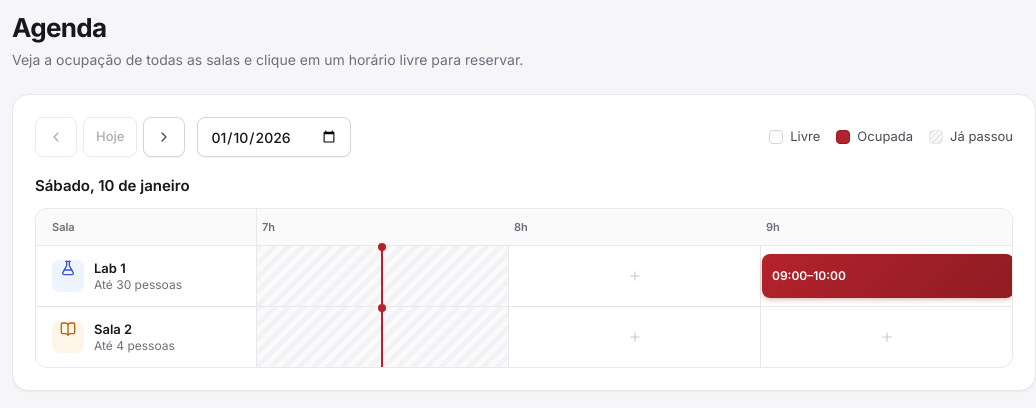
Test: Agenda › sem data pede para escolher uma e não consulta a API
Expected: the table is shown, x1=36 y1=209 x2=1012 y2=367
Clear the date field named "Data" at (274,137), box x1=198 y1=117 x2=352 y2=157
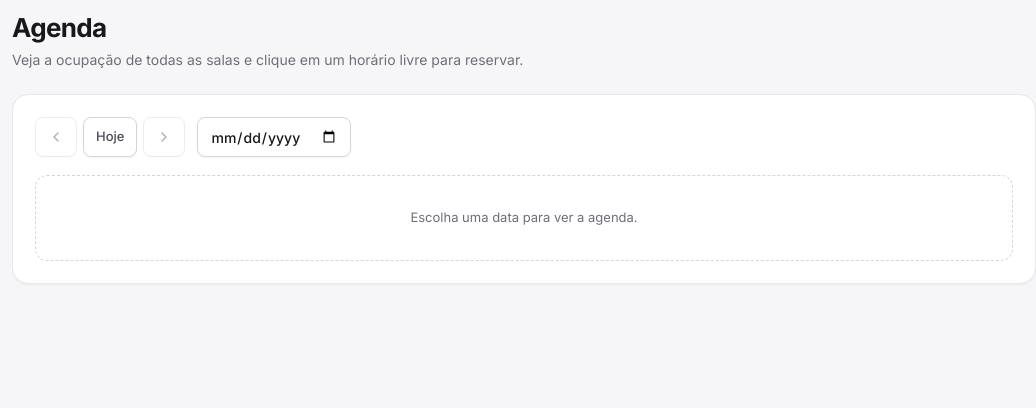
Expected: the button named "Próximo dia" is disabled, x1=144 y1=117 x2=186 y2=157
Expected: the text "Escolha uma data para ver a agenda." is shown, x1=410 y1=208 x2=638 y2=228
Expected: the table is gone
